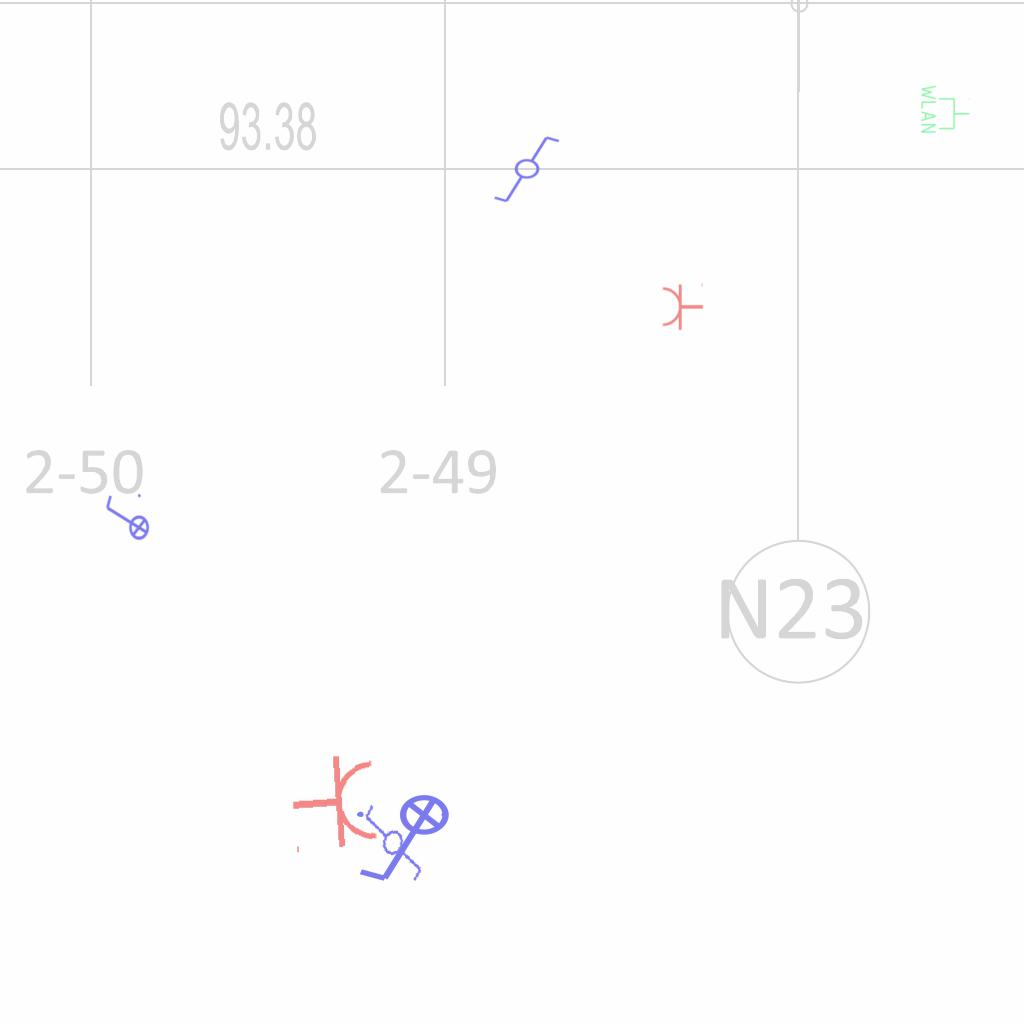Ausschalter_beleuchtet: (351, 793, 463, 889), (102, 491, 150, 547)
Schukosteckdose_einfach: (287, 751, 382, 857), (661, 281, 704, 331)
WLAN: (919, 83, 971, 135)
Wechselschalter: (351, 793, 439, 885), (492, 134, 570, 206)
